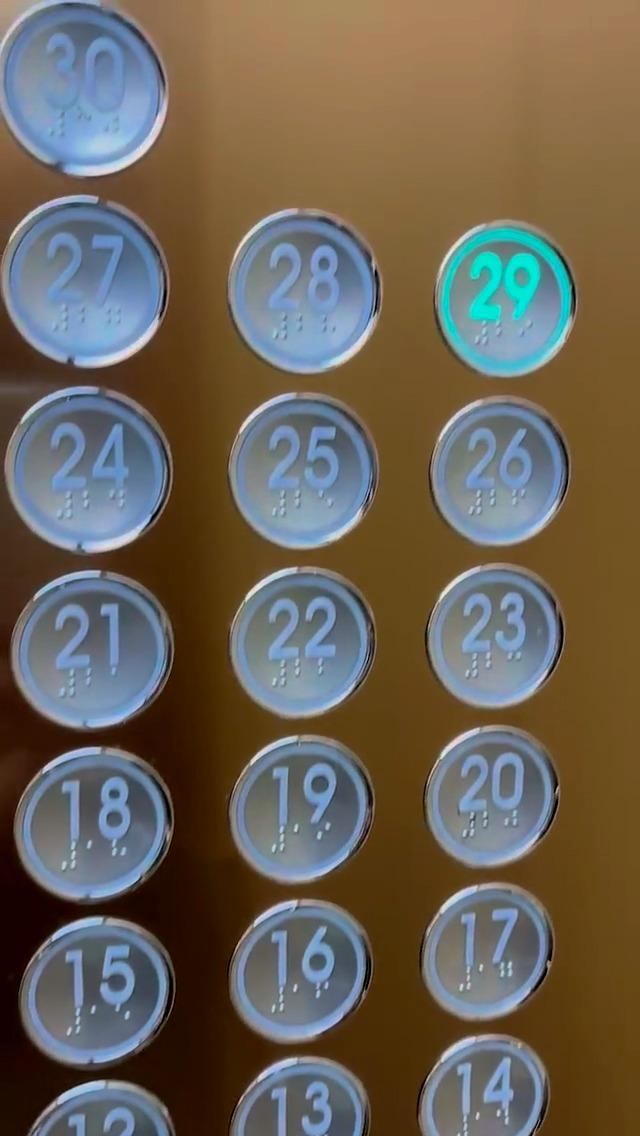button: (3, 6, 187, 180), (1, 379, 171, 556), (214, 396, 399, 551), (230, 203, 389, 374), (210, 563, 383, 720), (4, 571, 171, 733), (17, 199, 174, 369), (20, 920, 189, 1067), (423, 220, 577, 379), (420, 554, 580, 707), (417, 406, 597, 539), (13, 750, 174, 890), (421, 736, 567, 881), (236, 740, 379, 886), (236, 904, 367, 1034), (423, 887, 560, 1009), (427, 1031, 566, 1136), (223, 1070, 373, 1136)
